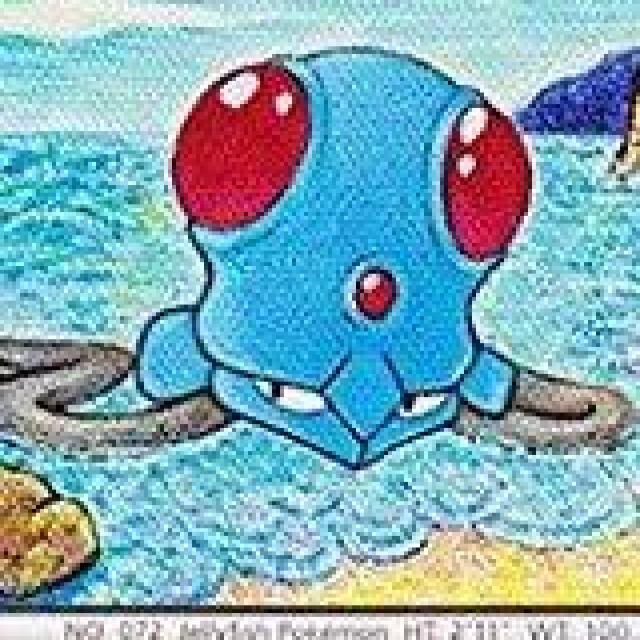Tentacool: (126, 42, 547, 521)
